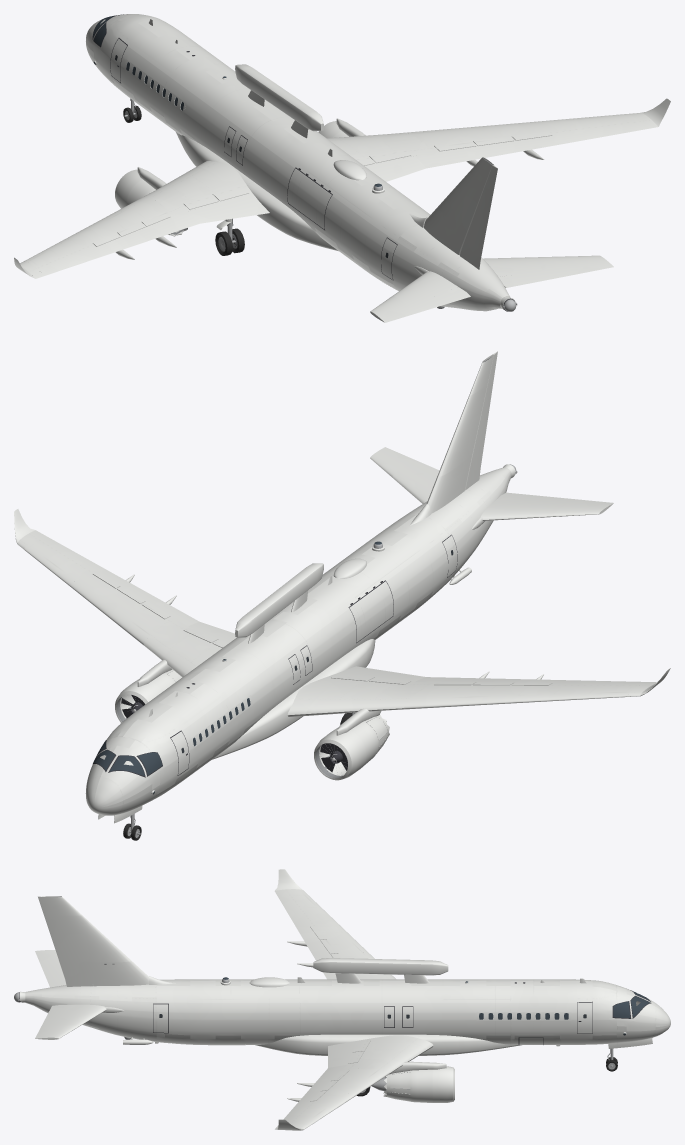
The model's file is P220 Exterior.fbx.
3 views of the same model, one above another, from view 1: azimuth 30°, elevation 25°; view 2: azimuth 150°, elevation 25°; view 3: azimuth 270°, elevation 25° (orthographic). The views are drawn at different scales.
Parts seen in each view (by area): view 1: fuselage_R_skL, fuselage_skL, cockpit_R_skL, fuselage_F_skL, tail_skL, tail, globaleye, wing1b_L, wing1b_R, belly_AL, flap_R, wing2_R (+32 smaller); view 2: fuselage_R_skL, fuselage_skL, cockpit_R_skL, fuselage_F_skL, wing1b_L, engine_L, globaleye, wing1b_R, tail_skL, tail, vstab_R, wing2_R (+19 smaller); view 3: fuselage_R_skR, fuselage_skR, cockpit_R_skR, fuselage_F_skR, tail_skR, globaleye, vstab_R, engine_R, tail, wing1b_R, belly_AR, vstab_L (+24 smaller).
Boxes of the visible parts, <box> form: fuselage_R_skL: <box>296,155,423,284</box>; fuselage_skL: <box>205,88,337,214</box>; cockpit_R_skL: <box>98,14,189,116</box>; fuselage_F_skL: <box>160,56,246,147</box>; tail_skL: <box>389,236,502,309</box>; tail: <box>400,213,509,307</box>; globaleye: <box>235,64,323,138</box>; wing1b_L: <box>145,166,239,216</box>; wing1b_R: <box>327,132,434,166</box>; belly_AL: <box>239,173,338,251</box>; flap_R: <box>415,135,565,168</box>; wing2_R: <box>410,124,544,166</box>; fuselage_R_skL: <box>324,515,455,642</box>; fuselage_skL: <box>233,582,365,707</box>; cockpit_R_skL: <box>123,684,231,794</box>; fuselage_F_skL: <box>190,649,274,745</box>; wing1b_L: <box>306,677,434,715</box>; engine_L: <box>314,715,389,780</box>; globaleye: <box>235,563,323,643</box>; wing1b_R: <box>143,618,221,677</box>; tail_skL: <box>444,469,511,580</box>; tail: <box>402,467,508,529</box>; vstab_R: <box>437,384,487,477</box>; wing2_R: <box>89,574,176,635</box>; fuselage_R_skR: <box>156,977,299,1039</box>; fuselage_skR: <box>297,977,443,1035</box>; cockpit_R_skR: <box>510,978,616,1039</box>; fuselage_F_skR: <box>443,980,514,1039</box>; tail_skR: <box>25,993,156,1041</box>; globaleye: <box>313,958,448,983</box>; vstab_R: <box>55,915,132,964</box>; engine_R: <box>383,1066,454,1102</box>; tail: <box>25,976,176,1001</box>; wing1b_R: <box>342,1043,426,1073</box>; belly_AR: <box>255,1034,388,1055</box>; vstab_L: <box>81,961,148,986</box>.
Size of the model in its own units: 35.1 by 11.32 by 38.96.
10 materials, 1 textured.
